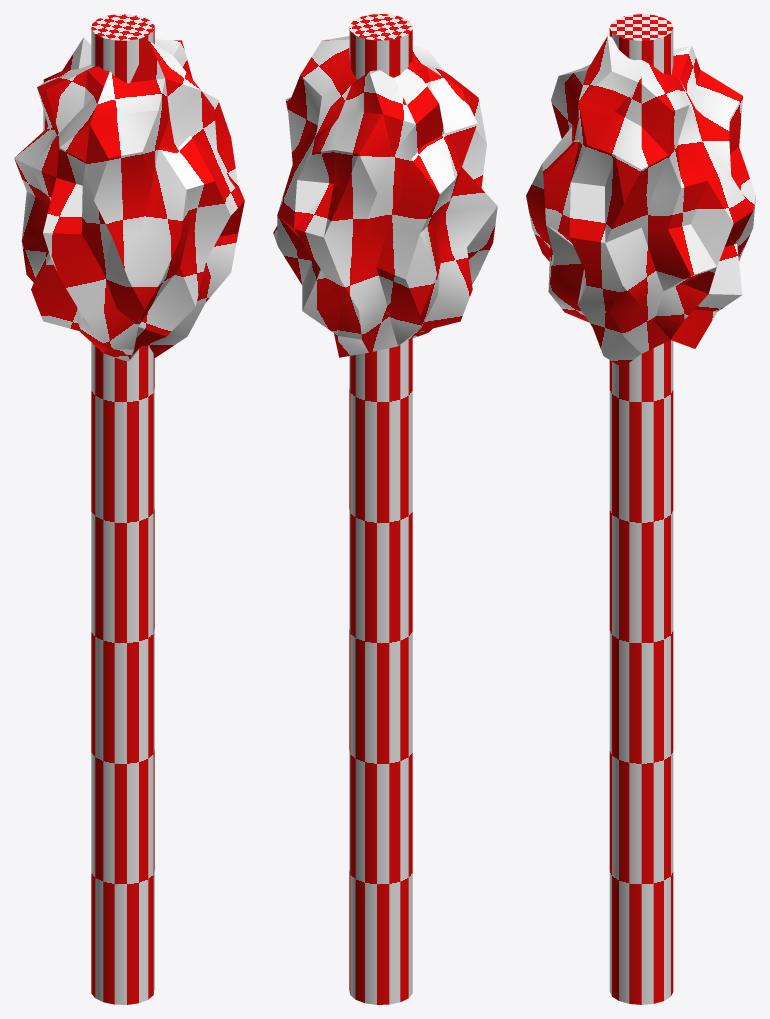
Rendered from torch.dae.
3 renders of one model, left to right at view 1: azimuth 30°, elevation 25°; view 2: azimuth 150°, elevation 25°; view 3: azimuth 270°, elevation 25°, orthographic.
Parts seen in each view (by area): view 1: Cylinder; view 2: Cylinder; view 3: Cylinder.
Boxes of the visible parts, x1,y1,x2,y2 form: Cylinder: (14, 14, 244, 1004); Cylinder: (273, 14, 497, 1004); Cylinder: (526, 14, 755, 1004).
Bounding box in the file's own units: 0.2147 × 0.2161 × 1.
Materials: 2 (2 with a texture image).
